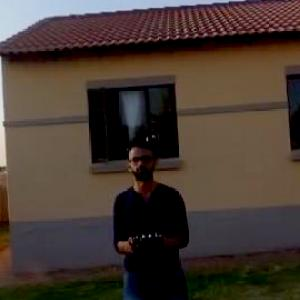follow: (108, 131, 195, 299)
